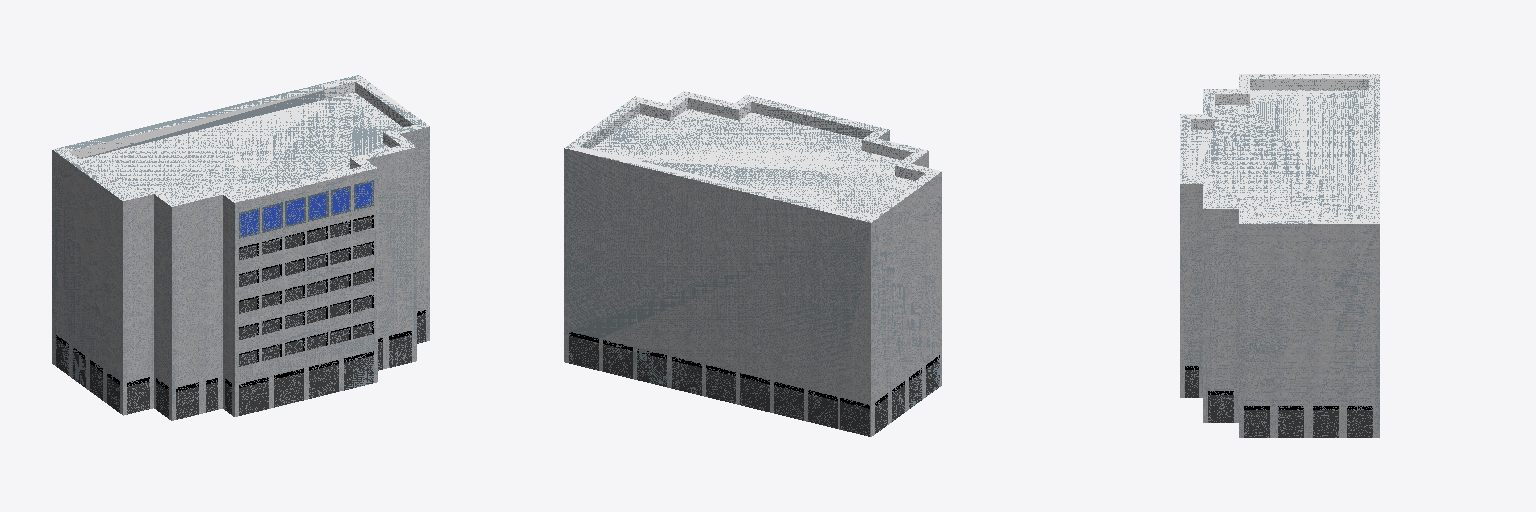
The picture shows the model from 3 angles: view 1: azimuth 30°, elevation 25°; view 2: azimuth 150°, elevation 25°; view 3: azimuth 270°, elevation 25°; orthographic projection.
Parts seen in each view (by area): view 1: Mesh1 Model; view 2: Mesh1 Model; view 3: Mesh1 Model.
Boxes of the visible parts, box(x1,y1,x2,y2) form: Mesh1 Model: box(52, 75, 429, 420); Mesh1 Model: box(564, 91, 941, 436); Mesh1 Model: box(1180, 74, 1379, 437).
Size of the model in its own units: 15 by 10 by 8.5.
7 materials, 1 textured.